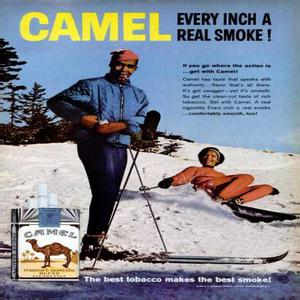cigarette: (124, 74, 131, 83)
